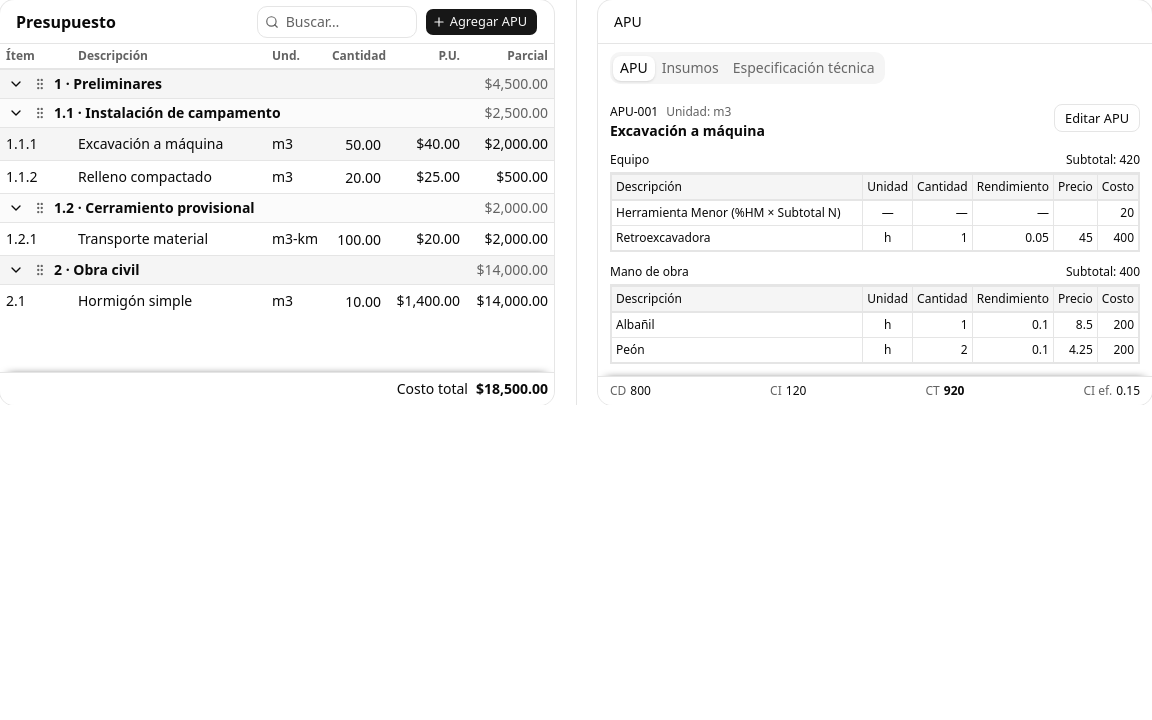
Test: WorkspacePage › opens with the initial plantilla search, filters, detail and contextual destination
Check: the search field named "Buscar en presupuesto" is shown, box [257, 6, 417, 38]
Click the button "Agregar APU" at (481, 22), box [425, 8, 538, 36]
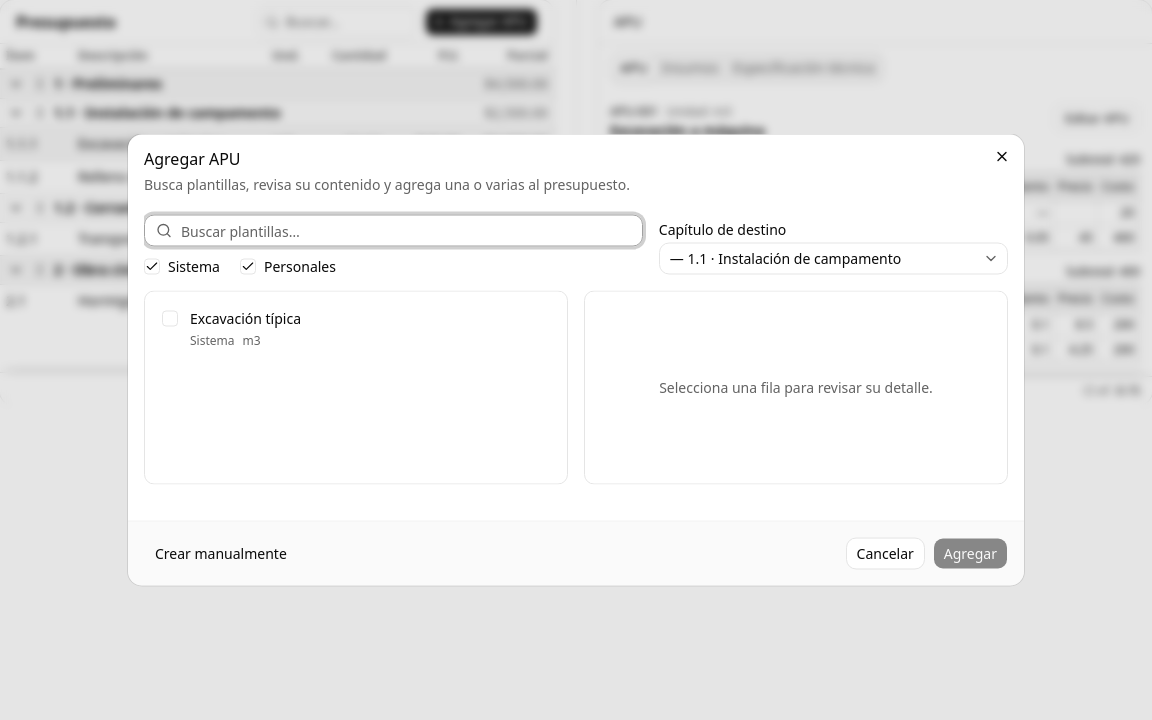
Check: the button with aria-label "Ver detalles de Excavación típica" is shown
Check: the checkbox named "Incluir plantillas del sistema" is checked, box [144, 258, 160, 274]
Check: the checkbox named "Incluir plantillas personales" is checked, box [240, 258, 256, 274]
Click the button with aria-label "Ver detalles de Excavación típica" at (246, 318), box [190, 308, 550, 348]
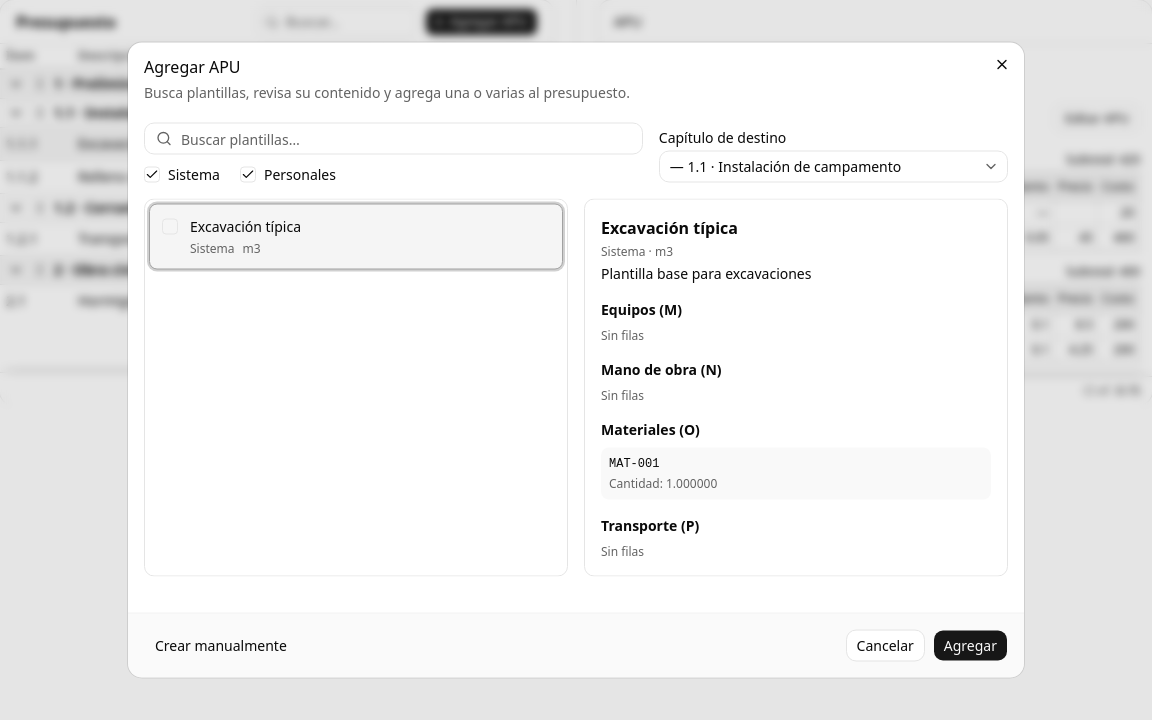
Check: the heading "Excavación típica" is shown, box [601, 216, 738, 238]
